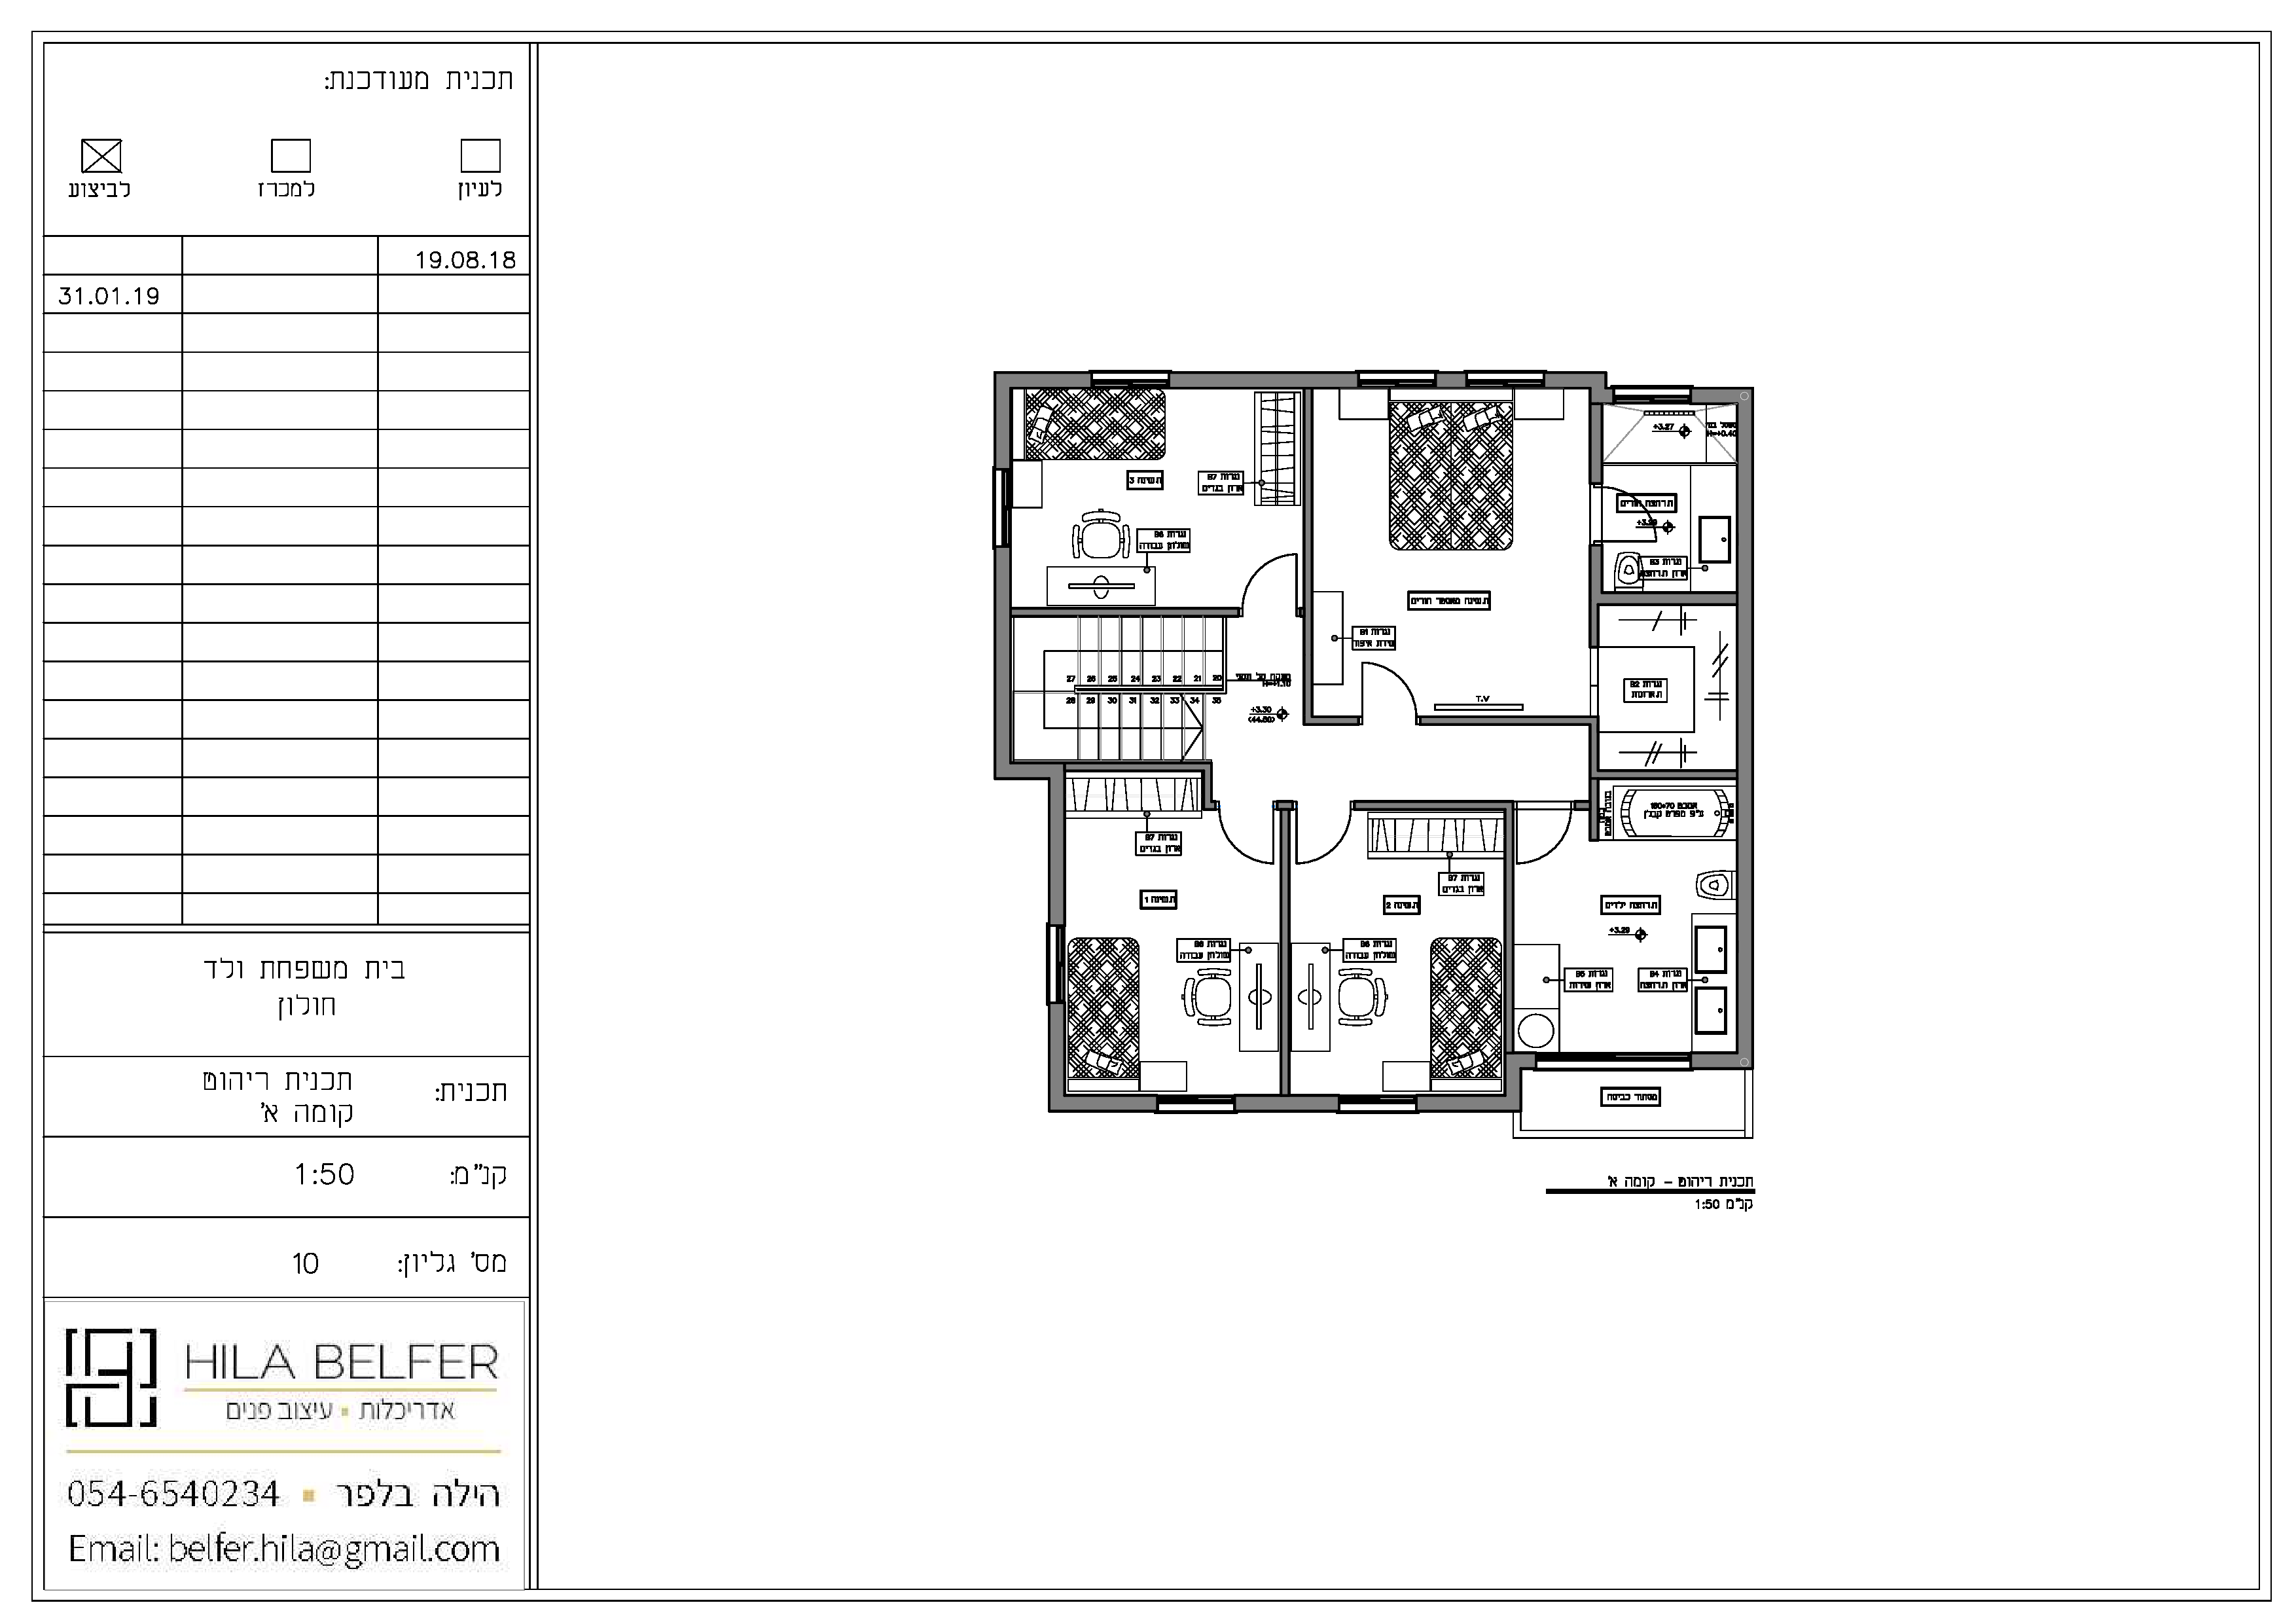door: (1514, 807, 1583, 874), (1353, 656, 1416, 710), (1238, 547, 1300, 601), (1212, 819, 1277, 870), (1293, 821, 1356, 868)
wall: (1739, 459, 1750, 1014), (1186, 374, 1353, 385), (1052, 773, 1061, 919), (996, 592, 1005, 738), (996, 378, 1008, 460), (1433, 1095, 1502, 1109), (1073, 1097, 1140, 1111), (1253, 1095, 1319, 1109), (1001, 374, 1086, 385), (1052, 1012, 1061, 1109)
window: (1534, 1046, 1693, 1081), (1463, 360, 1546, 395), (1152, 1088, 1238, 1121), (1611, 376, 1693, 410), (1038, 924, 1072, 1007), (984, 466, 1015, 548), (1353, 362, 1439, 392), (1091, 362, 1172, 390), (1339, 1088, 1418, 1116)
